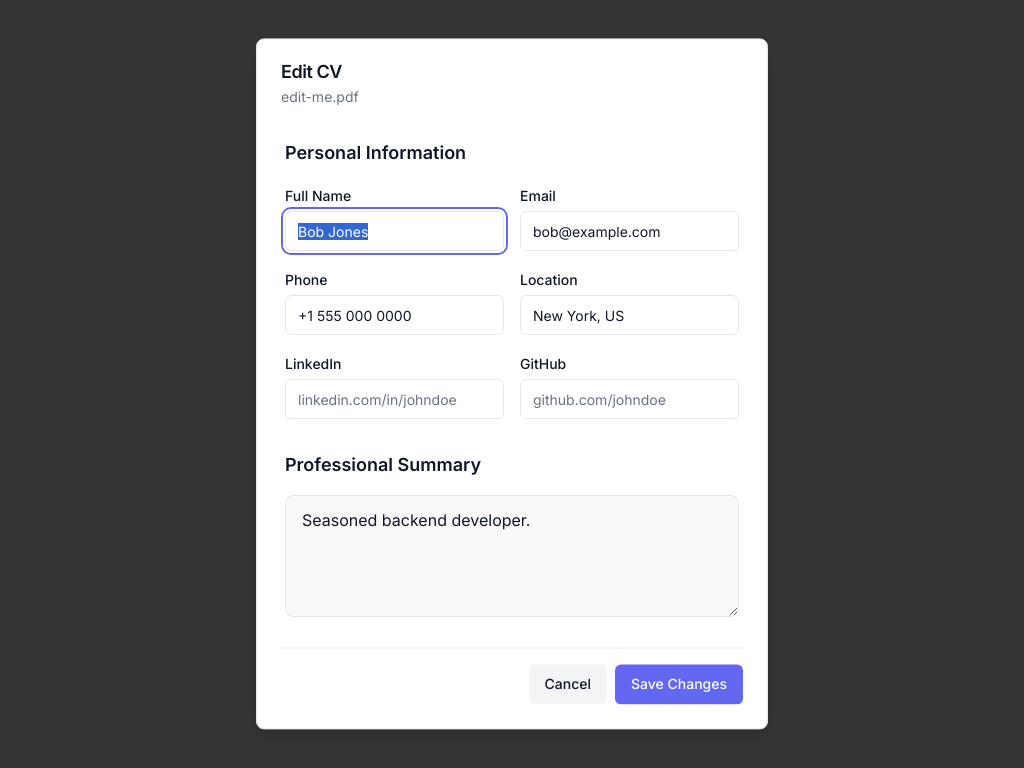
Test: CVEditModal - form submission › should show a server error message when updateCV rejects
What coordinates should you click on to do the following:
click the button "Save Changes"
I would click on:
 (679, 685)
Its box is [615,665,743,705].
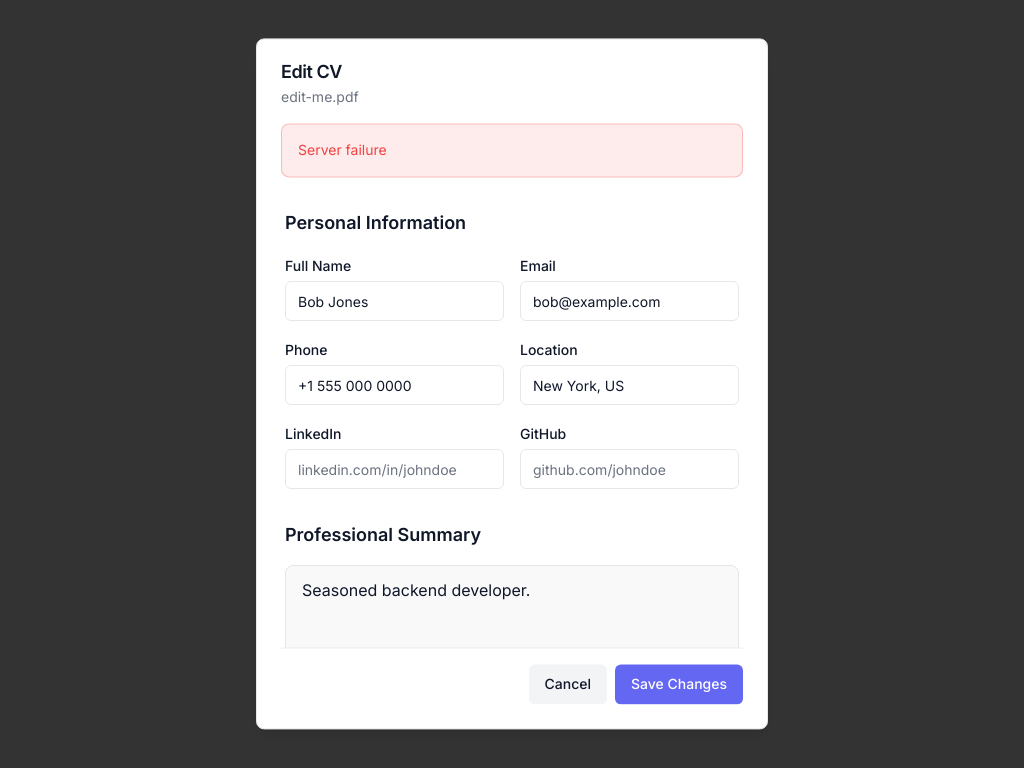
Expected: the text "Server failure" is shown, [298,141,387,158]
